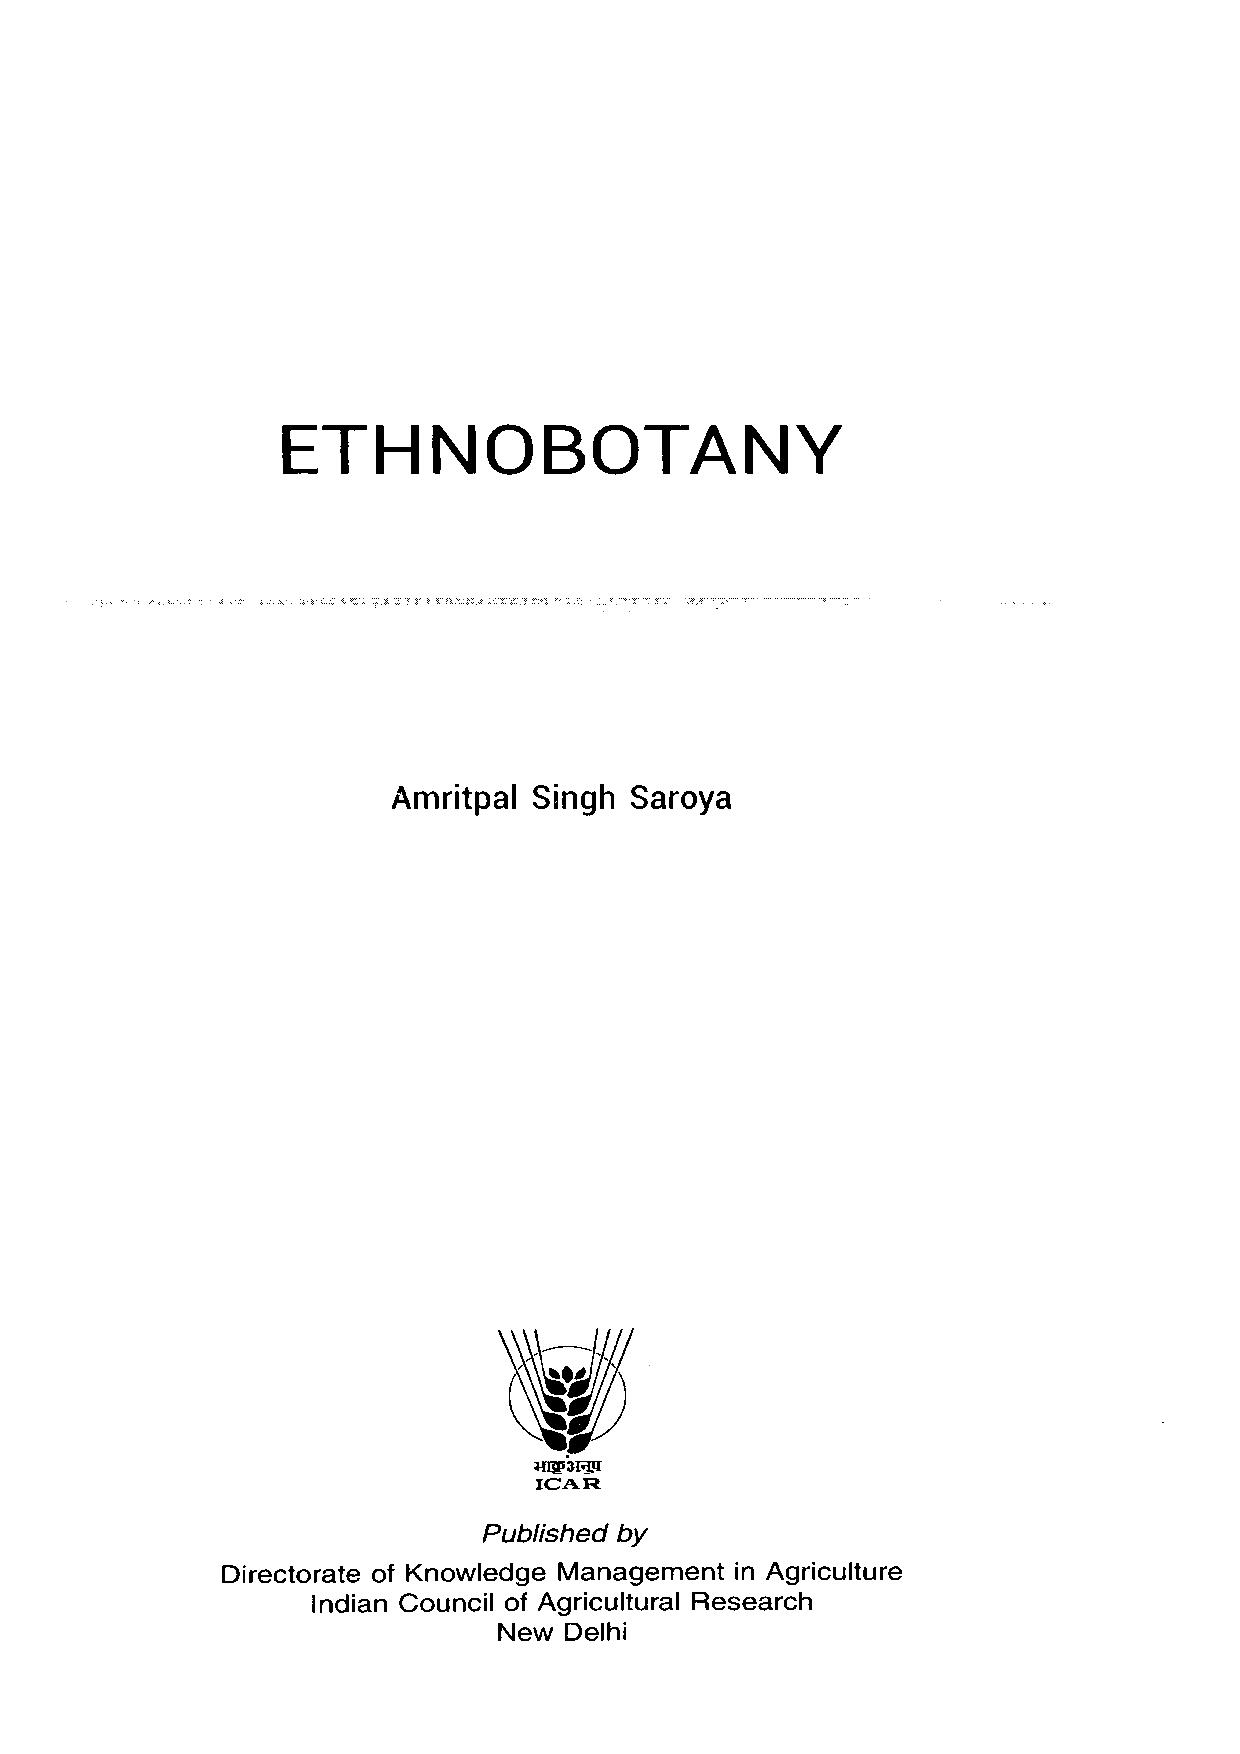author: (388, 782, 731, 817)
title: (276, 421, 844, 476)
